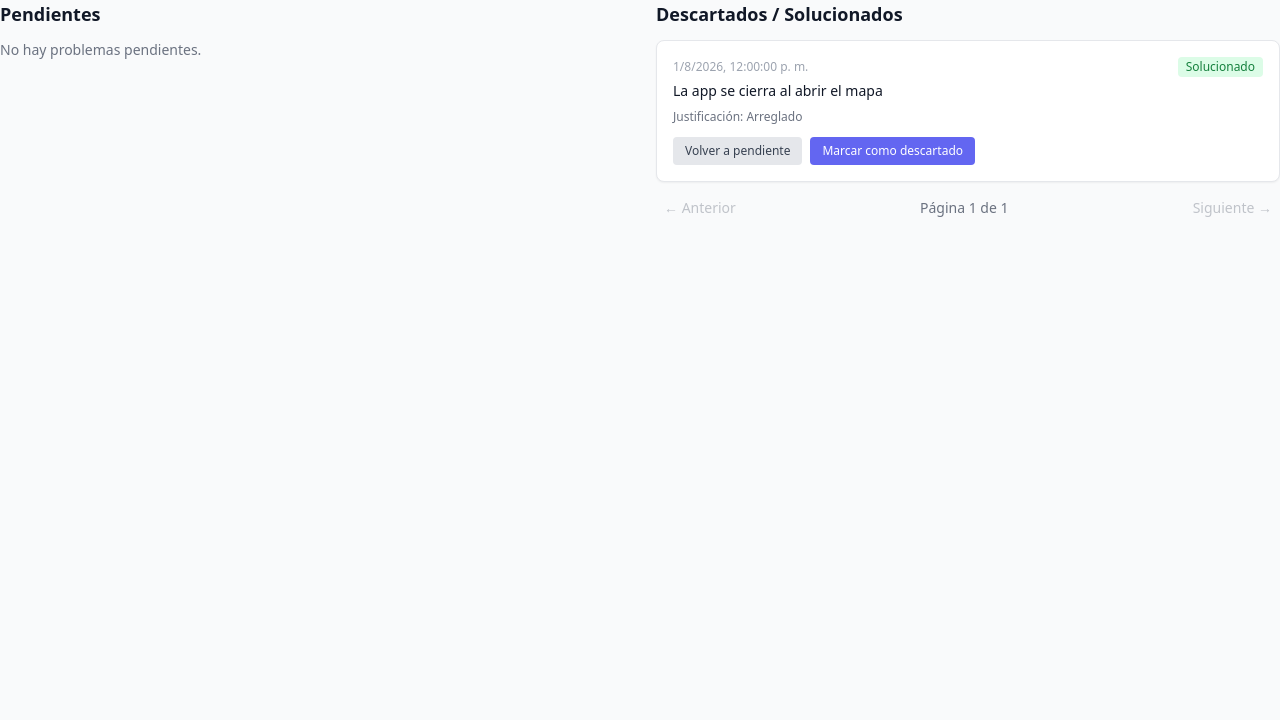
ProblemasReportadosPage › 'Volver a pendiente' no pide justificación y limpia la anterior
What coordinates should you click on to do the following:
click the button "Volver a pendiente"
I would click on:
 (738, 151)
Its box is [673,137,802,165].
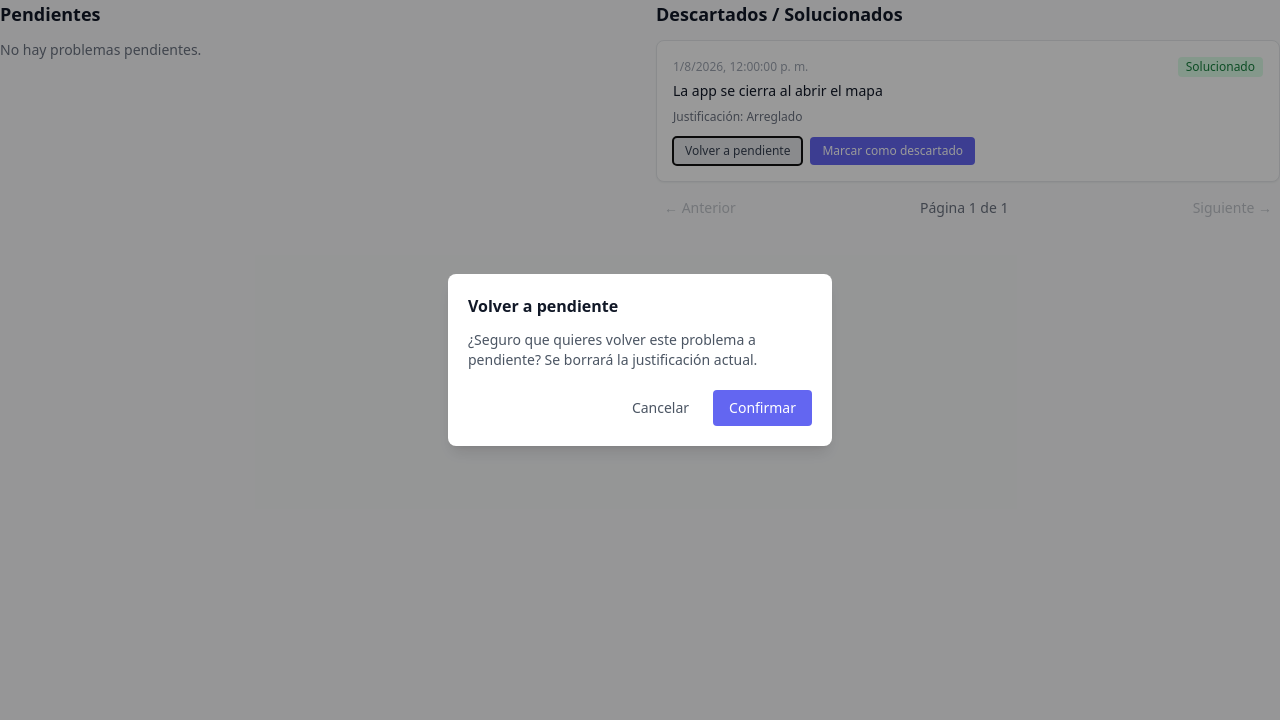
Now the button "Confirmar" is enabled
What coordinates should you click on to do the following:
click the button "Confirmar"
I would click on:
 (763, 408)
Its box is [713,390,812,426].
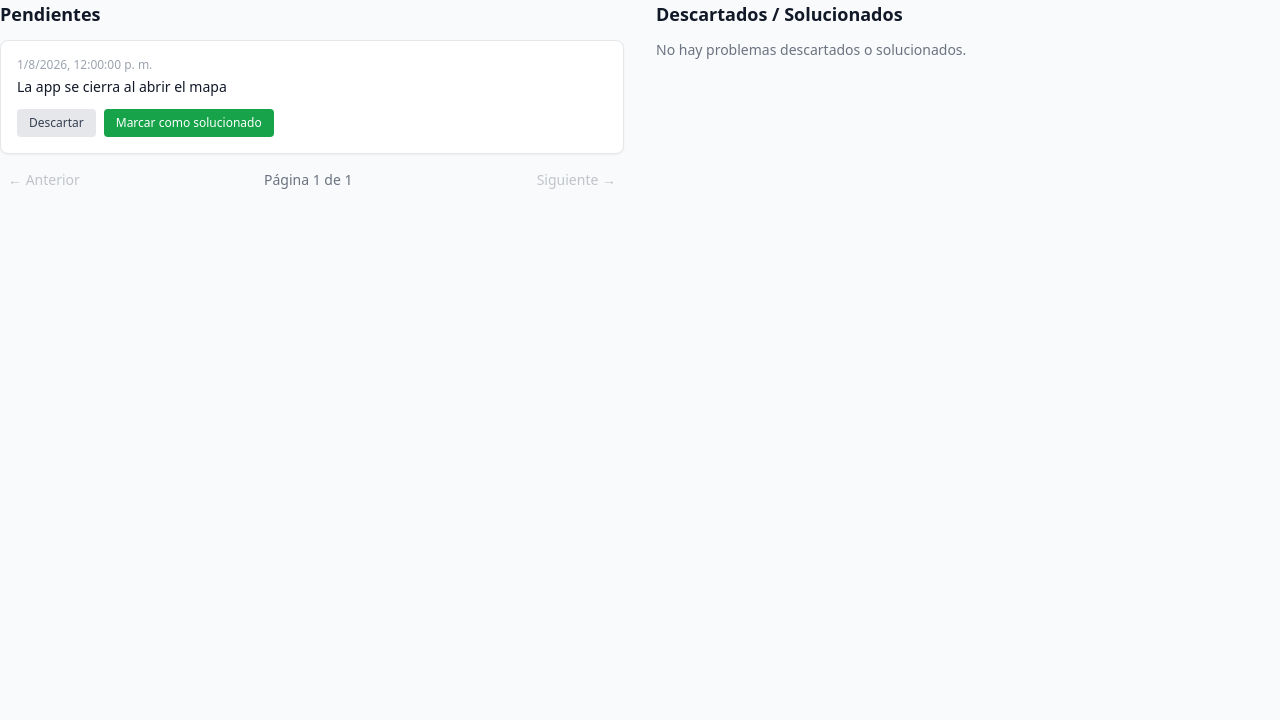
Now the text "La app se cierra al abrir el mapa" is shown, box [17,77,227,96]
